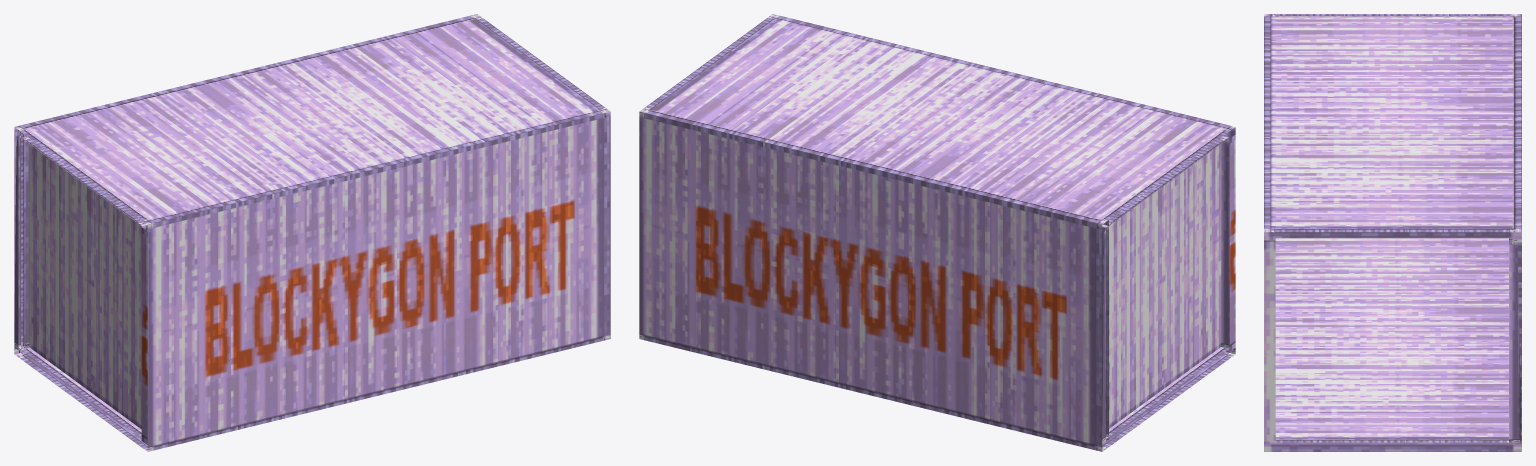
Rendered from BLOCKYGON_WHITE CONTAINER(HALF OPEN).fbx.
The picture shows the model from 3 angles, left to right: view 1: azimuth 30°, elevation 25°; view 2: azimuth 150°, elevation 25°; view 3: azimuth 270°, elevation 25°; orthographic projection. The views are drawn at different scales.
Parts seen in each view (by area): view 1: BLOCKYGON_WHITE_CONTAINER_HALF_OPEN_; view 2: BLOCKYGON_WHITE_CONTAINER_HALF_OPEN_; view 3: BLOCKYGON_WHITE_CONTAINER_HALF_OPEN_.
Part boxes in pixels (left/top/right/bottom): BLOCKYGON_WHITE_CONTAINER_HALF_OPEN_: left=14, top=14, right=610, bottom=451; BLOCKYGON_WHITE_CONTAINER_HALF_OPEN_: left=639, top=14, right=1235, bottom=451; BLOCKYGON_WHITE_CONTAINER_HALF_OPEN_: left=1264, top=14, right=1521, bottom=451.
Bounding box in the file's own units: 435 × 204 × 217.
